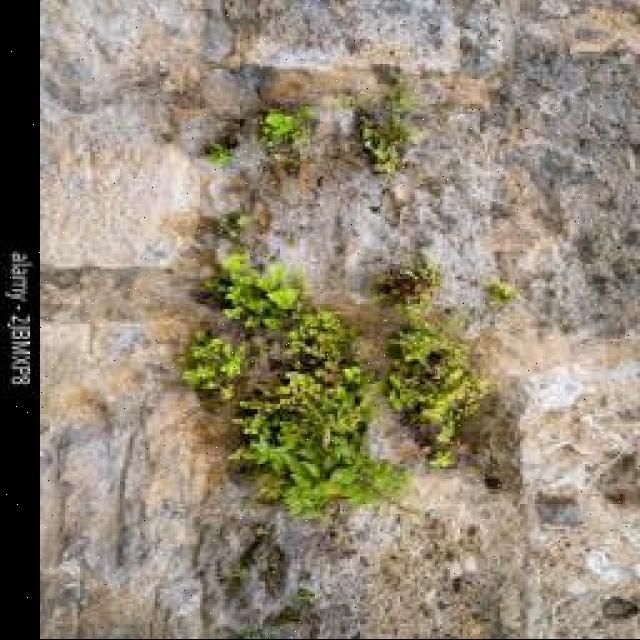crack: (40, 0, 638, 637), (185, 11, 509, 308), (391, 5, 640, 333), (49, 0, 561, 124), (36, 3, 232, 274), (228, 0, 379, 75), (107, 414, 140, 575)
dampens: (34, 289, 240, 636)
vegetation: (176, 241, 498, 519), (189, 255, 354, 413), (237, 79, 422, 181), (209, 512, 340, 636), (41, 312, 169, 429), (532, 65, 640, 179), (250, 216, 341, 297), (185, 3, 270, 86), (57, 573, 159, 640), (437, 3, 520, 80), (178, 329, 254, 401), (186, 64, 260, 134), (255, 107, 315, 168), (46, 561, 93, 631)
